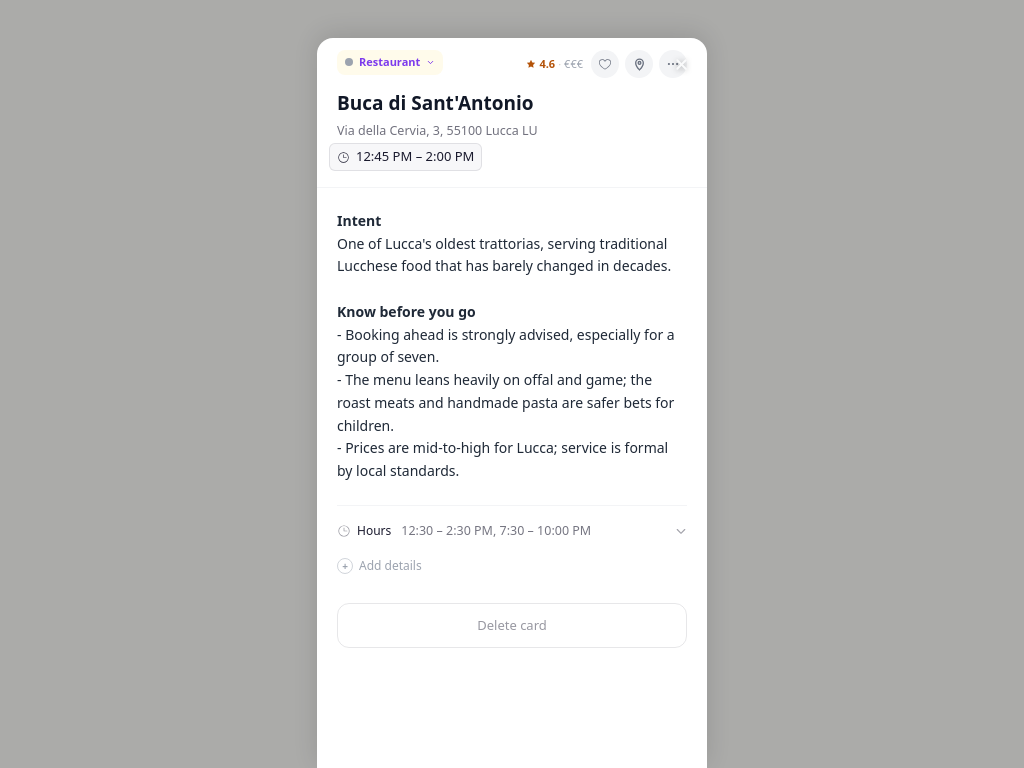
CardBottomSheet — directions remember the app (6 Oct 2026, taps audit) › with Remember turned off, the chooser keeps asking
The width and height of the screenshot is (1024, 768).
Click the button with aria-label "Directions to Via della Cervia, 3, 55100 Lucca LU, Italy" at (437, 131), box 337,122 -> 538,140
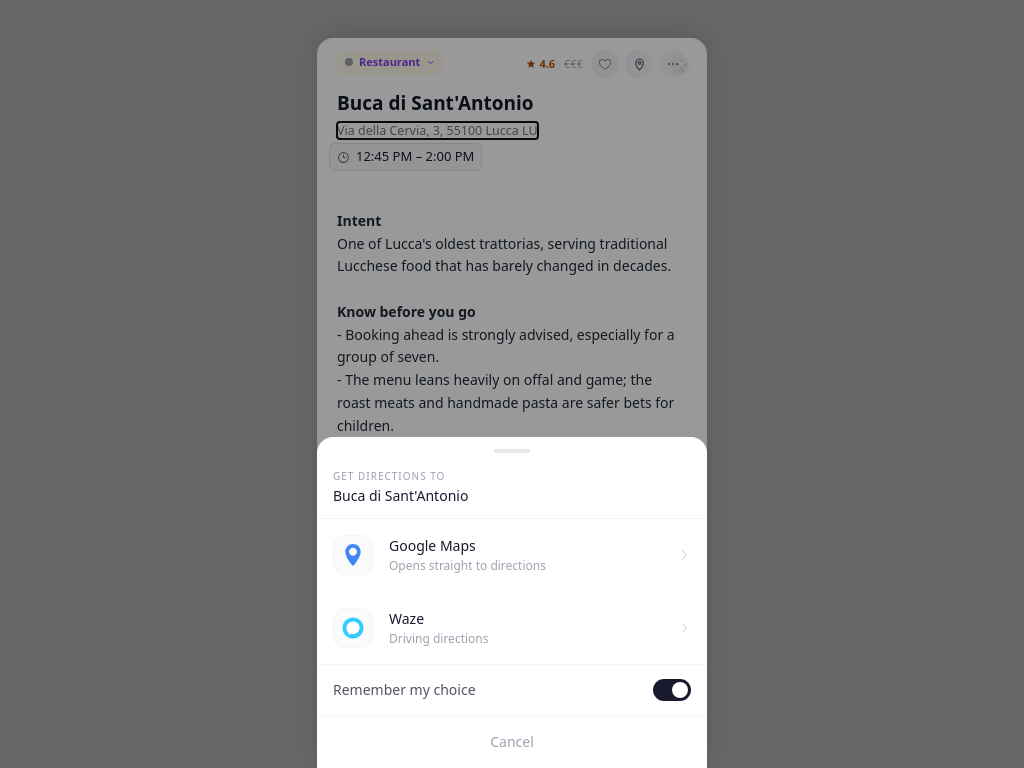
Click the switch labelled "Remember my choice" at (404, 690), box 317,664 -> 707,715
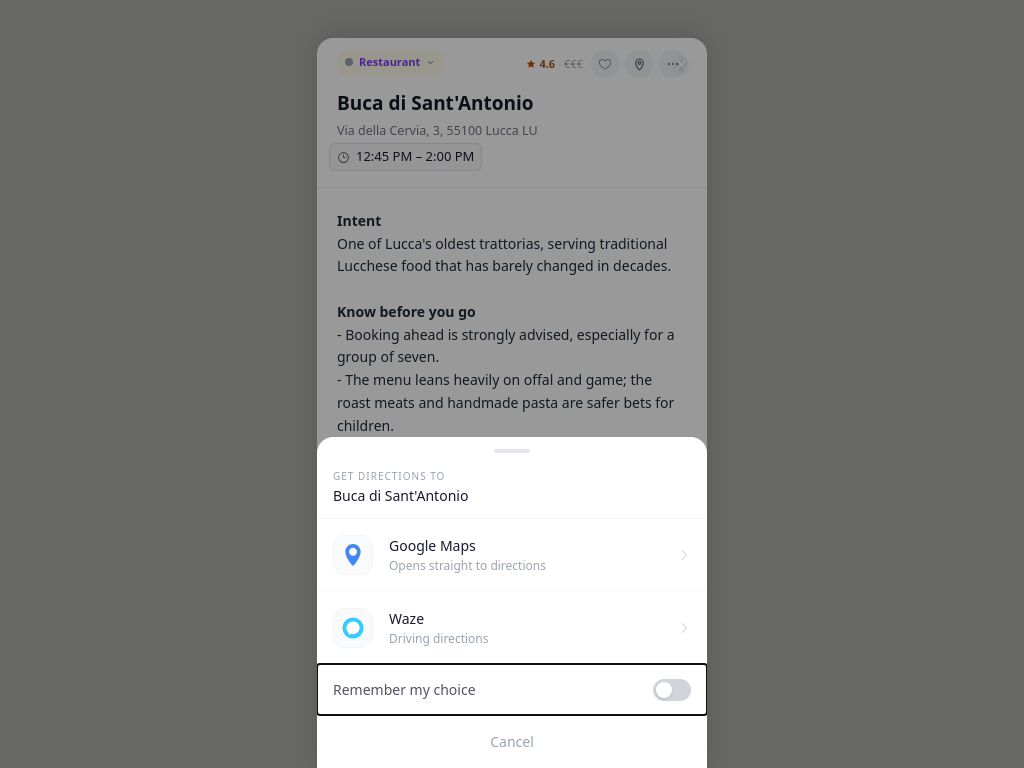
Click the text "Waze" at (407, 618), box 389,609 -> 424,628
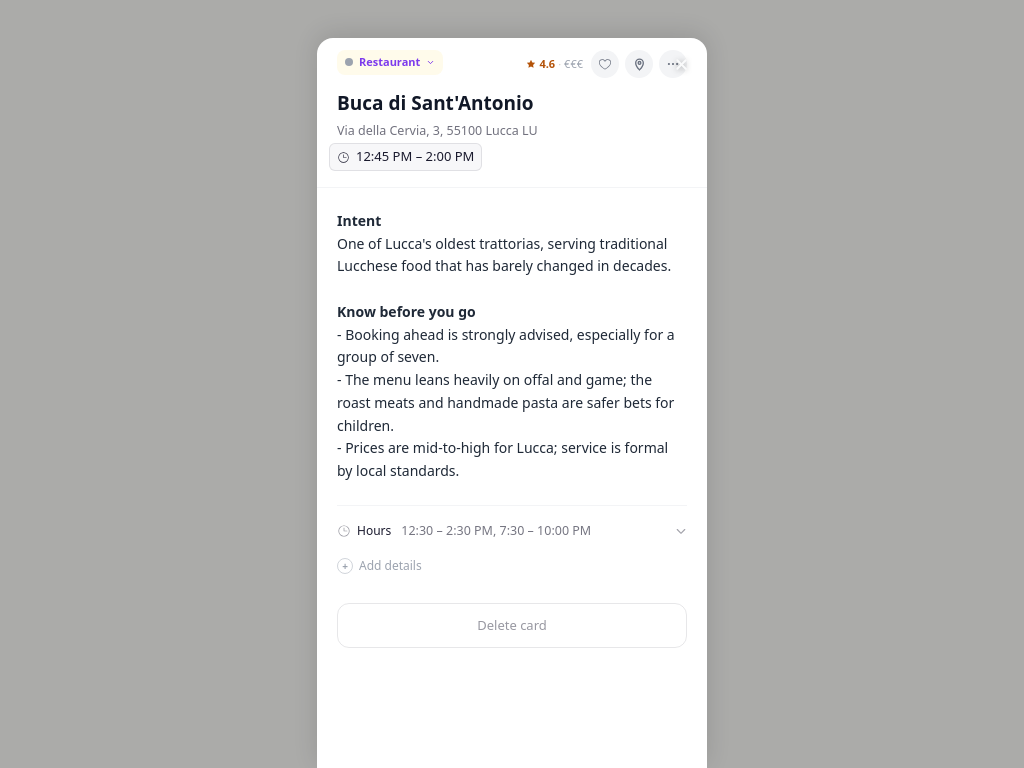
Click the button with aria-label "Directions to Via della Cervia, 3, 55100 Lucca LU, Italy" at (437, 131), box 337,122 -> 538,140
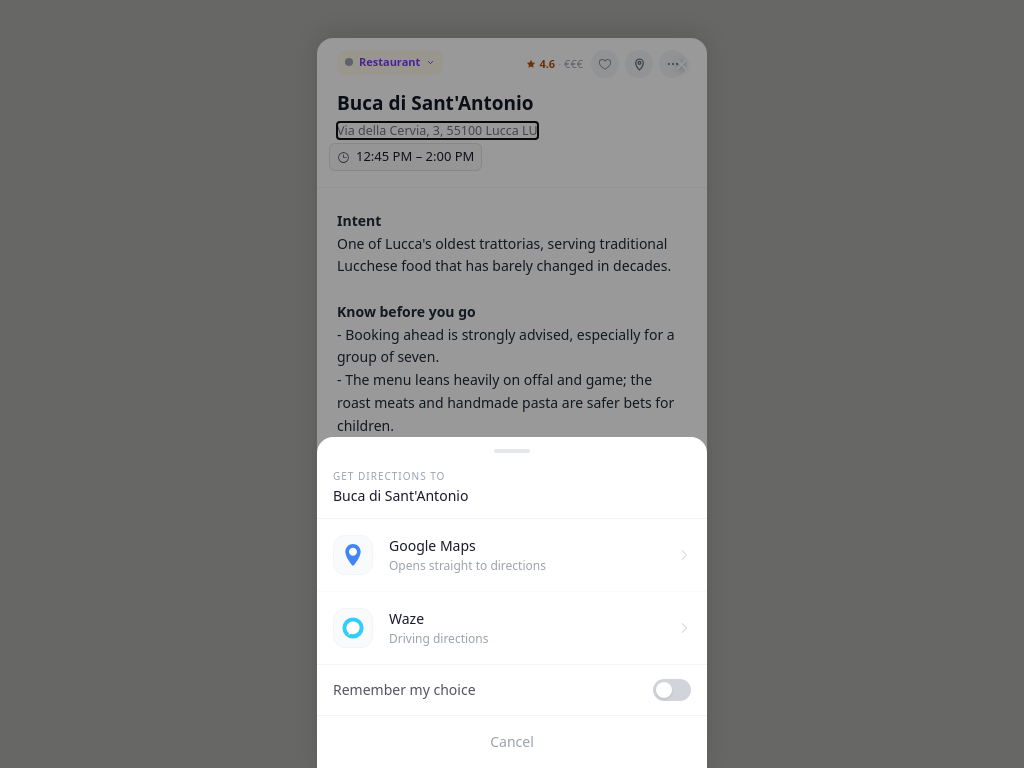
Result: the text "Get directions to" is shown at 333,469 -> 445,483
